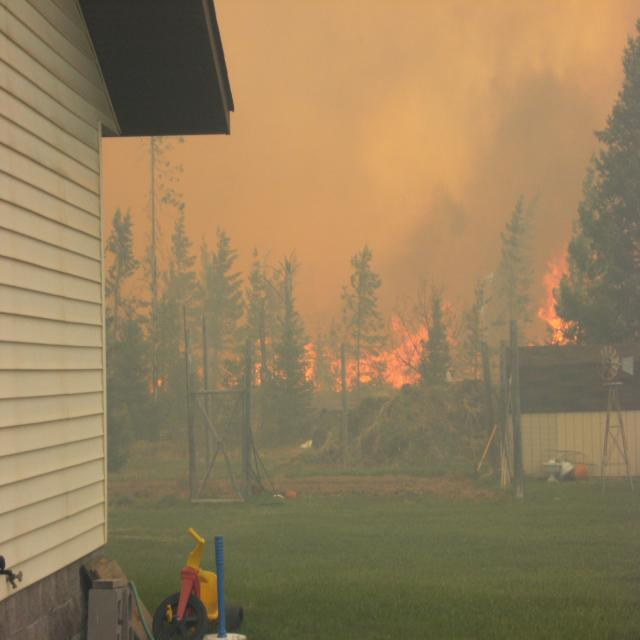Fire: (302, 291, 459, 395), (535, 238, 588, 349)
